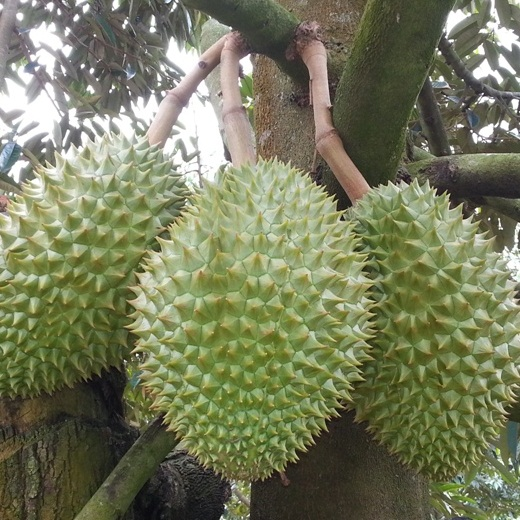sau_rieng: (130, 170, 366, 467), (3, 133, 181, 416), (358, 167, 520, 470)
